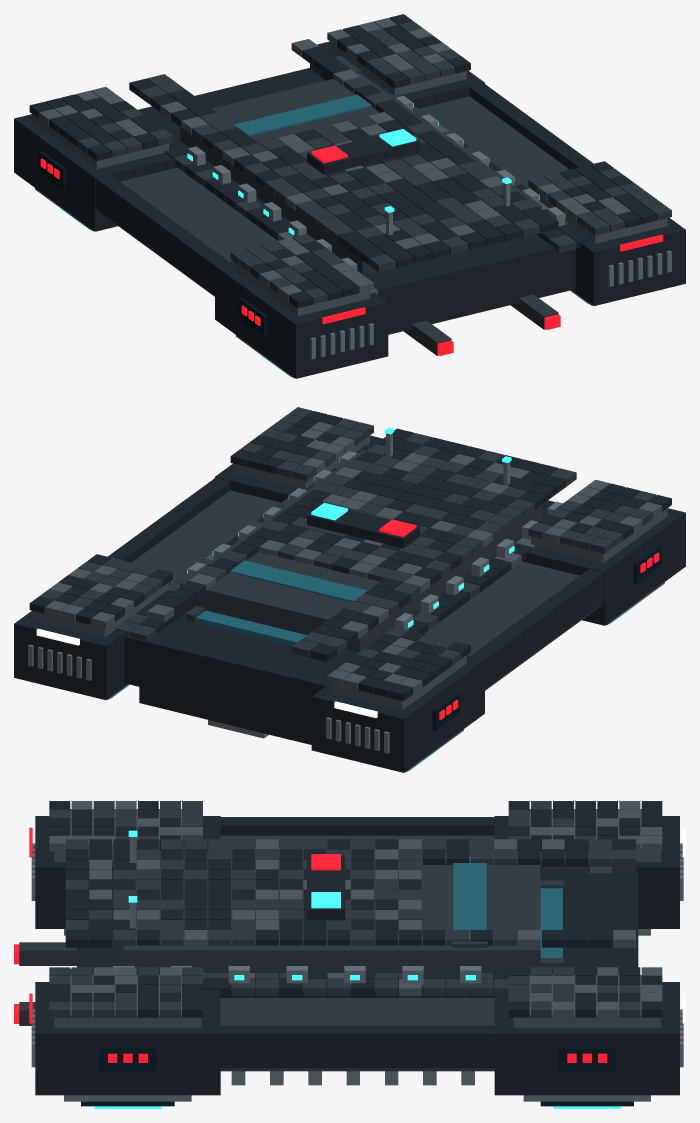
3 renders of one model, top to bottom at view 1: azimuth 30°, elevation 25°; view 2: azimuth 150°, elevation 25°; view 3: azimuth 270°, elevation 25°, orthographic. The views are drawn at different scales.
Visible parts, largest first — view 1: AEON / ARMORED PATROL AV; view 2: AEON / ARMORED PATROL AV; view 3: AEON / ARMORED PATROL AV.
Boxes of the visible parts, <box> form: AEON / ARMORED PATROL AV: <box>14,14,685,378</box>; AEON / ARMORED PATROL AV: <box>14,407,685,772</box>; AEON / ARMORED PATROL AV: <box>14,801,685,1108</box>.
Bounding box in the file's own units: 6.21 × 2.09 × 7.9.
